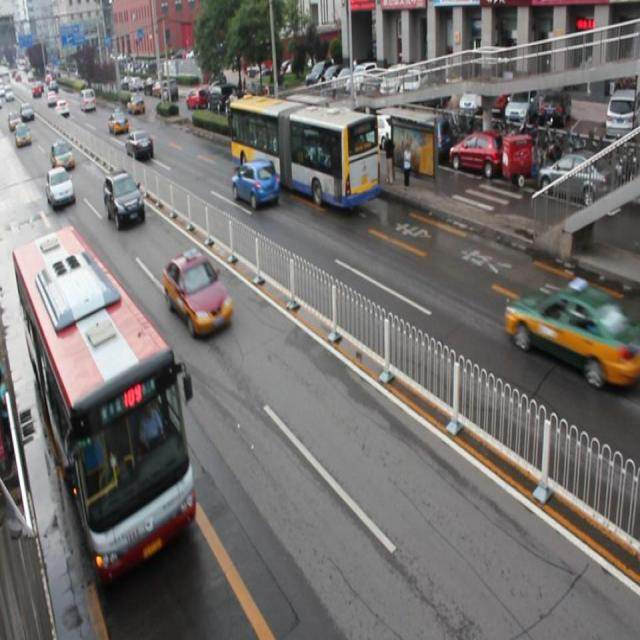car: (502, 280, 640, 391), (164, 249, 232, 336), (103, 170, 146, 228), (231, 161, 278, 208), (46, 168, 75, 208), (125, 129, 153, 160)
van: (14, 232, 195, 580), (229, 95, 381, 210)
